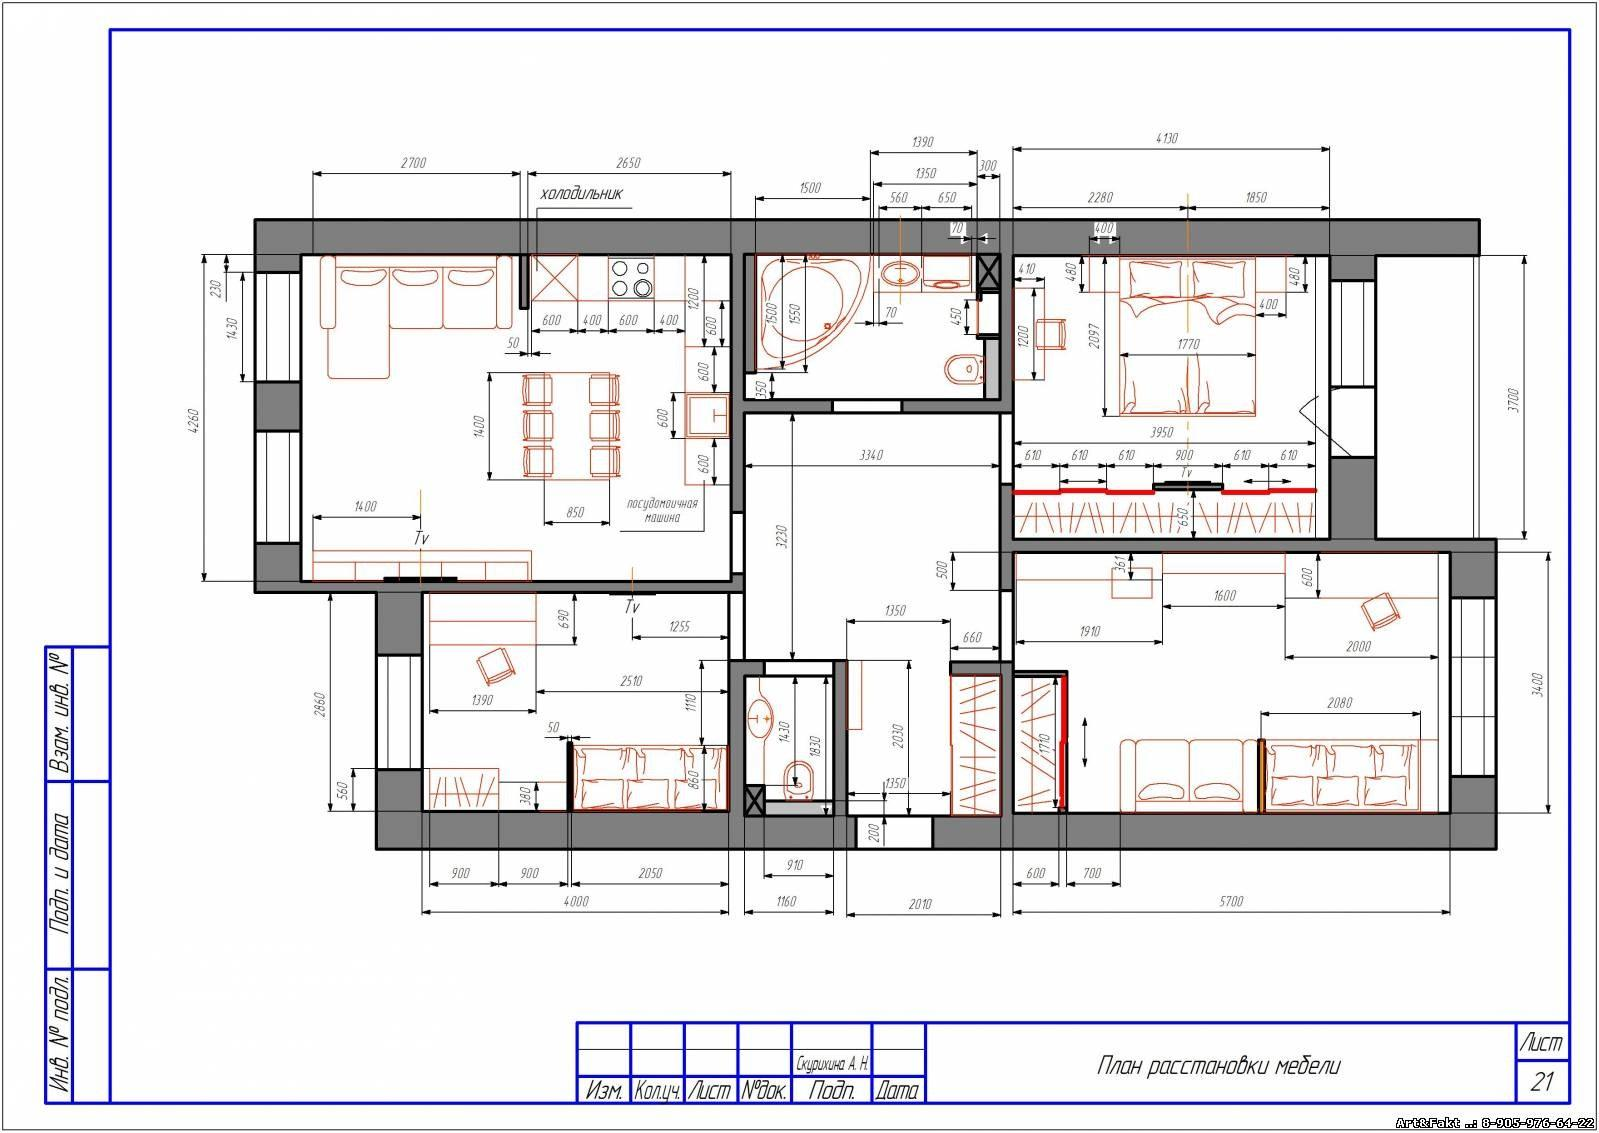balcony: (1377, 256, 1476, 538)
bathroom: (745, 252, 1002, 399)
bedroom: (1014, 252, 1332, 539)
hallway: (744, 411, 1004, 817)
home_office: (422, 591, 731, 811)
kitchen: (530, 251, 732, 582)
living_room: (1016, 552, 1451, 813), (301, 253, 521, 582)
toilet: (744, 676, 835, 817)
